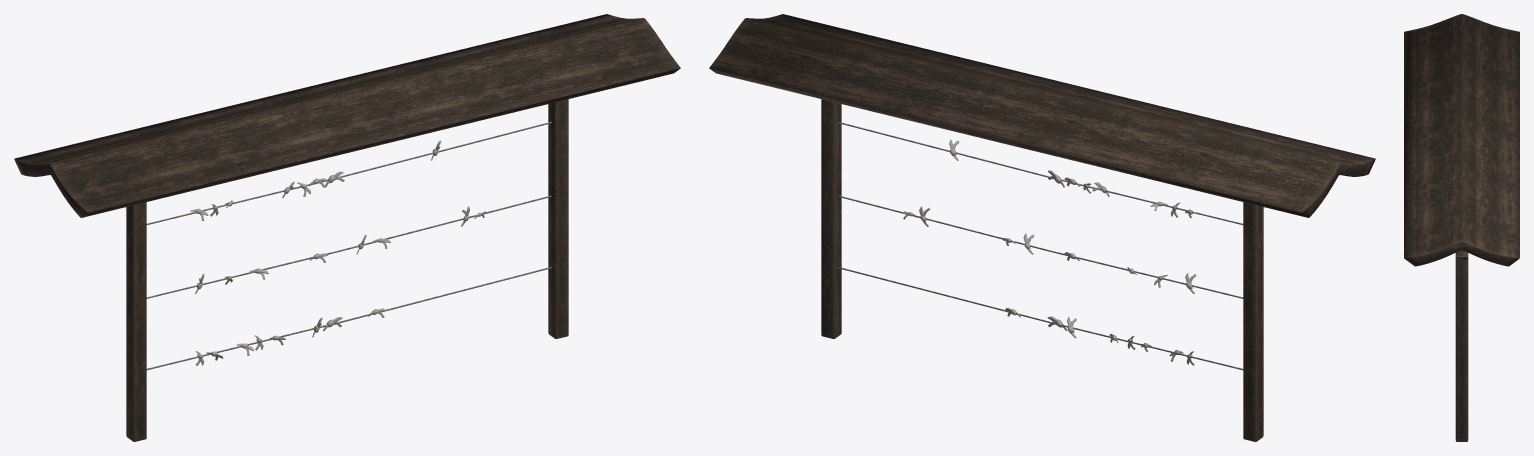
File: Omikuji-kake.fbx
3 views of the same model, side by side, from view 1: azimuth 30°, elevation 25°; view 2: azimuth 150°, elevation 25°; view 3: azimuth 270°, elevation 25° (orthographic). The views are drawn at different scales.
Parts seen in each view (by area): view 1: Omikuji-kake; view 2: Omikuji-kake; view 3: Omikuji-kake.
Boxes of the visible parts, x1=… form: Omikuji-kake: x1=14, y1=14, x2=680, y2=441; Omikuji-kake: x1=709, y1=14, x2=1375, y2=441; Omikuji-kake: x1=1404, y1=14, x2=1519, y2=441.
Size of the model in its own units: 4.34 by 2.05 by 0.93.
